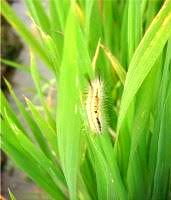Caterpillar: (82, 74, 108, 137)
